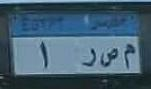1: (36, 41, 49, 67)
meem: (121, 40, 137, 72)
raa: (83, 47, 97, 67)
saad: (99, 46, 120, 70)
